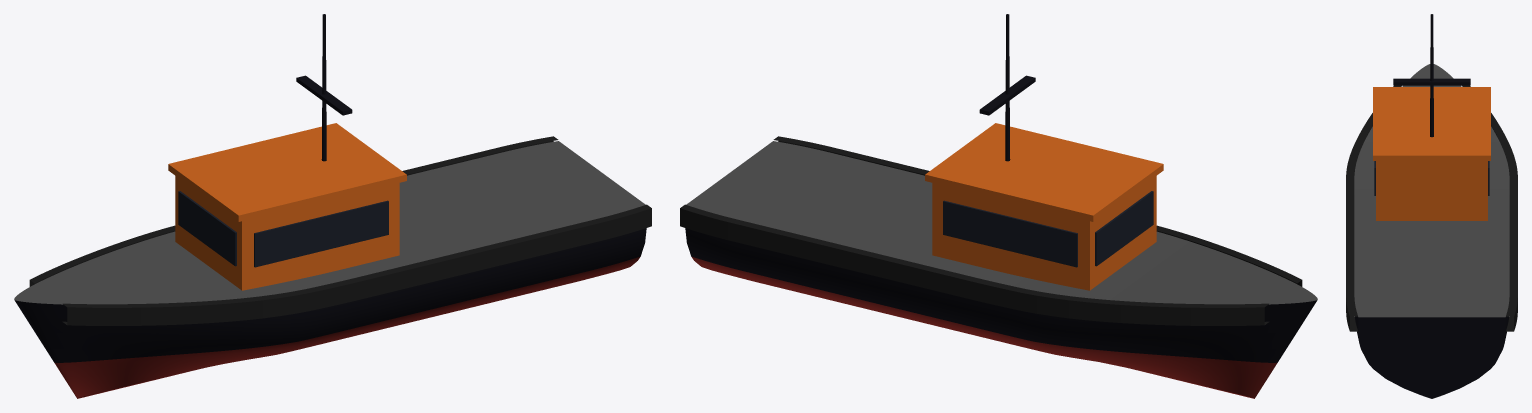
File: pilot_boat.glb
3 renders of one model, left to right at view 1: azimuth 30°, elevation 25°; view 2: azimuth 150°, elevation 25°; view 3: azimuth 270°, elevation 25°, orthographic. The views are drawn at different scales.
Parts seen in each view (by area): view 1: pilot_boat; view 2: pilot_boat; view 3: pilot_boat.
Part boxes in pixels (box(x1,y1,x2,y2)): pilot_boat: box(14, 14, 651, 398); pilot_boat: box(680, 14, 1317, 398); pilot_boat: box(1346, 14, 1517, 398).
Bounding box in the file's own units: 19.04 × 10.02 × 5.76.
